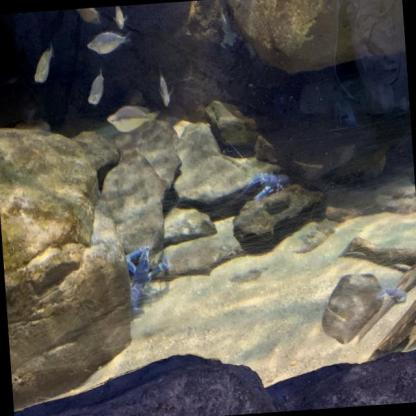fish: (105, 100, 158, 135), (86, 30, 132, 56), (31, 42, 56, 85), (84, 68, 106, 106), (156, 68, 174, 108), (76, 6, 102, 28), (110, 5, 129, 32)
